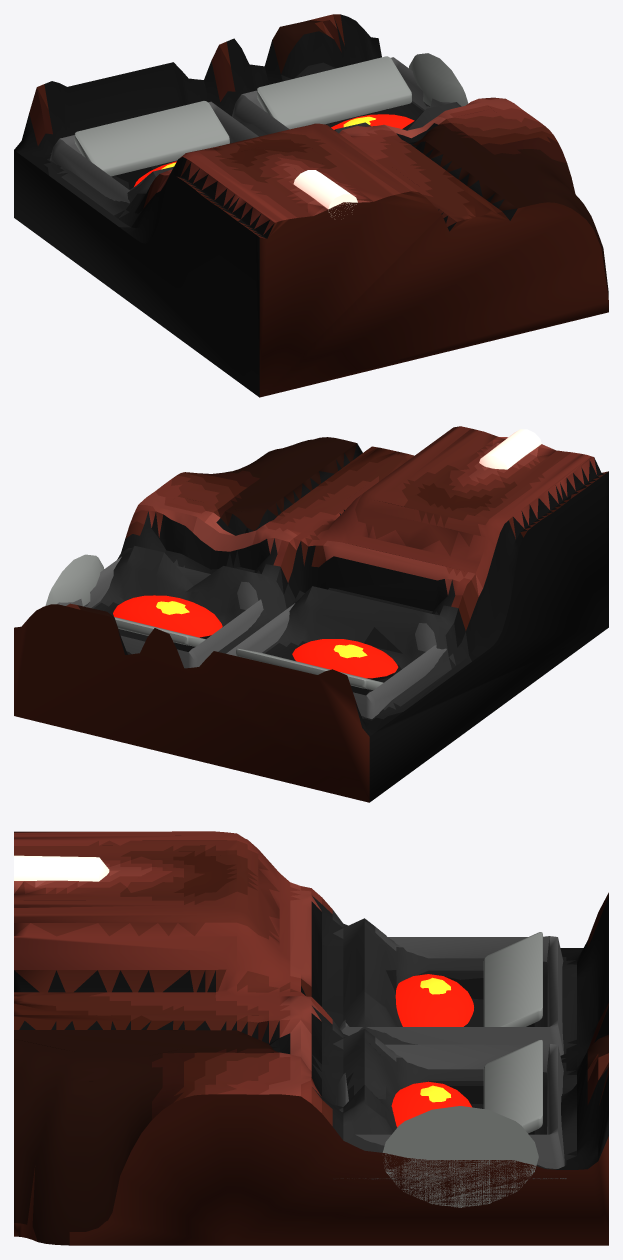
The model's file is savara_boss_236.glb.
3 views of the same model, one above another, from view 1: azimuth 30°, elevation 25°; view 2: azimuth 150°, elevation 25°; view 3: azimuth 270°, elevation 25° (orthographic). The views are drawn at different scales.
Visible parts, largest first — view 1: savara_boss_236_hull; view 2: savara_boss_236_hull; view 3: savara_boss_236_hull.
Boxes of the visible parts, left/top/right/bottom form: savara_boss_236_hull: left=14, top=14, right=608, bottom=397; savara_boss_236_hull: left=14, top=426, right=608, bottom=802; savara_boss_236_hull: left=14, top=831, right=608, bottom=1245.
Size of the model in its own units: 24 by 11.49 by 28.
